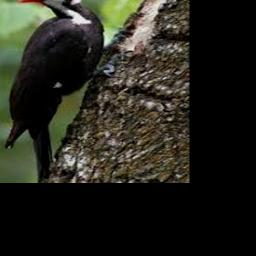Woodpecker: (5, 0, 126, 182)
